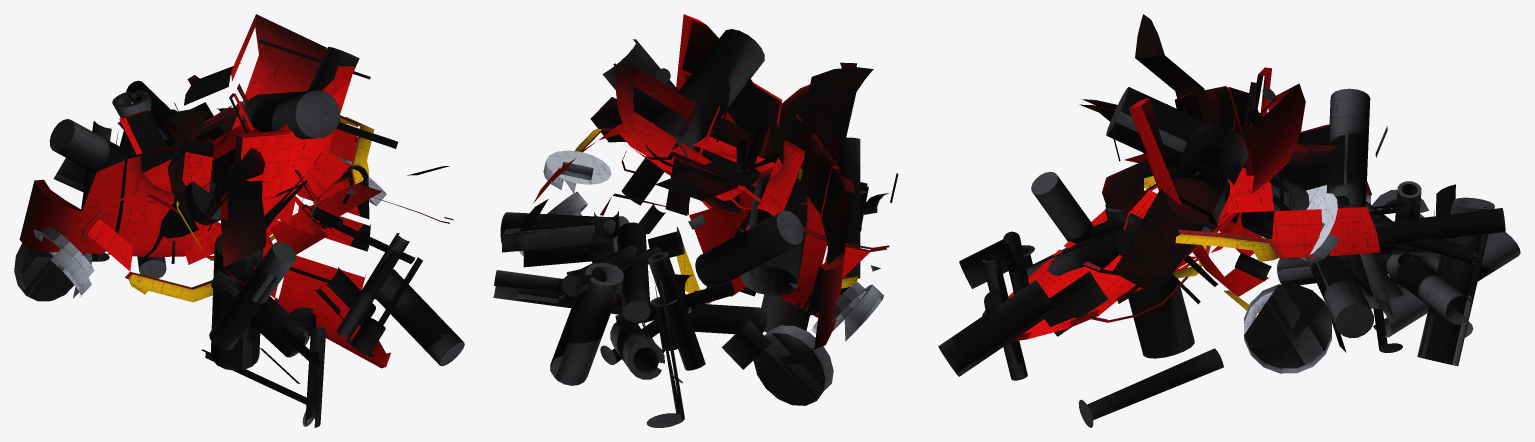
The model's file is MonsterA2_die14.obj.
3 renders of one model, left to right at view 1: azimuth 30°, elevation 25°; view 2: azimuth 150°, elevation 25°; view 3: azimuth 270°, elevation 25°, orthographic. The views are drawn at different scales.
Visible parts, largest first — view 1: Box001; view 2: Box001; view 3: Box001.
Part boxes in pixels (box(x1,y1,x2,y2)): Box001: box(14, 14, 464, 427); Box001: box(493, 14, 898, 427); Box001: box(938, 14, 1520, 427).
Size of the model in its own units: 262 by 244 by 351.
Materials: 1 (1 with a texture image).
